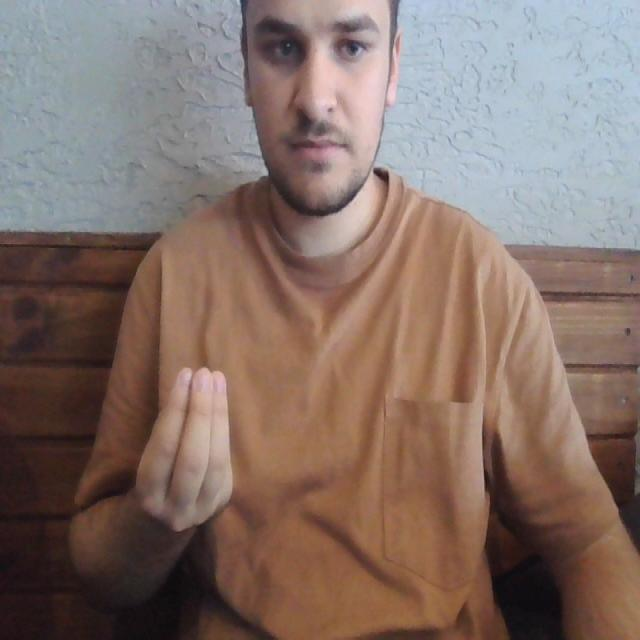iyi: (134, 353, 242, 542)
